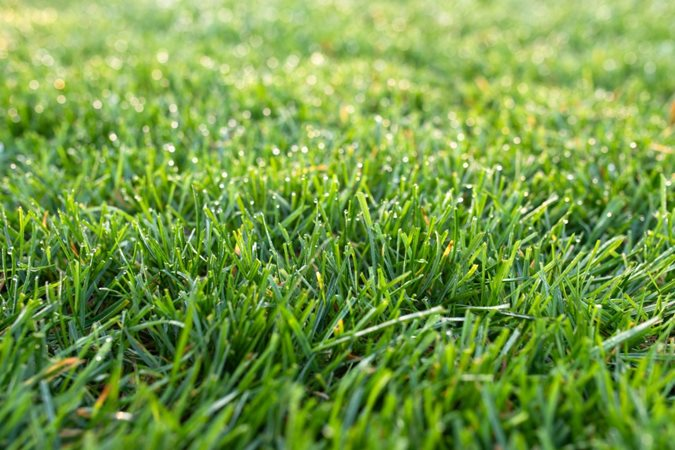grass: (1, 186, 675, 450)
